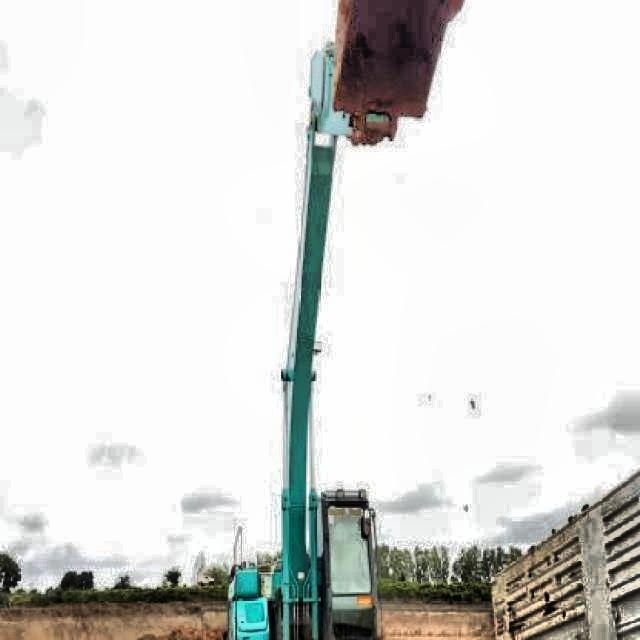excavator: (223, 0, 464, 638)
